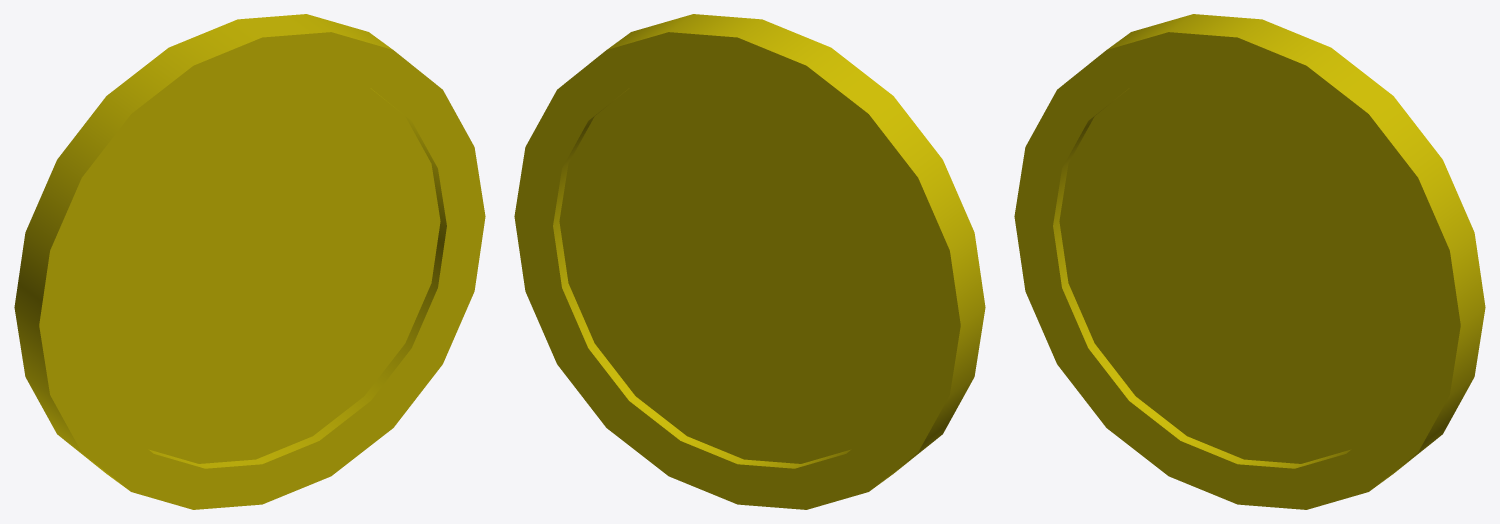
The model's file is Coin.fbx.
The picture shows the model from 3 angles, left to right: view 1: azimuth 30°, elevation 25°; view 2: azimuth 150°, elevation 25°; view 3: azimuth 330°, elevation 25°; orthographic projection.
Parts seen in each view (by area): view 1: coin; view 2: coin; view 3: coin.
Part boxes in pixels (x1=…): coin: x1=14, y1=14, x2=485, y2=509; coin: x1=514, y1=14, x2=985, y2=509; coin: x1=1014, y1=14, x2=1485, y2=509.
Bounding box in the file's own units: 13.6 × 13.6 × 1.3.
